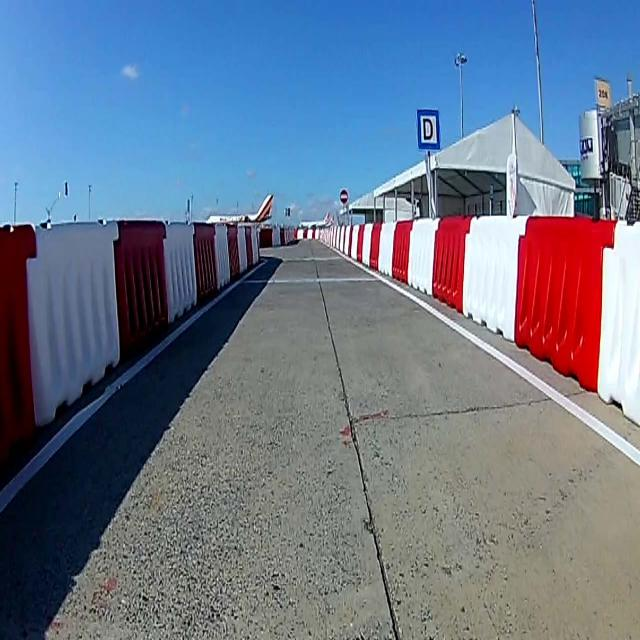durak: (416, 107, 442, 150)
girisyok: (339, 190, 348, 205)
